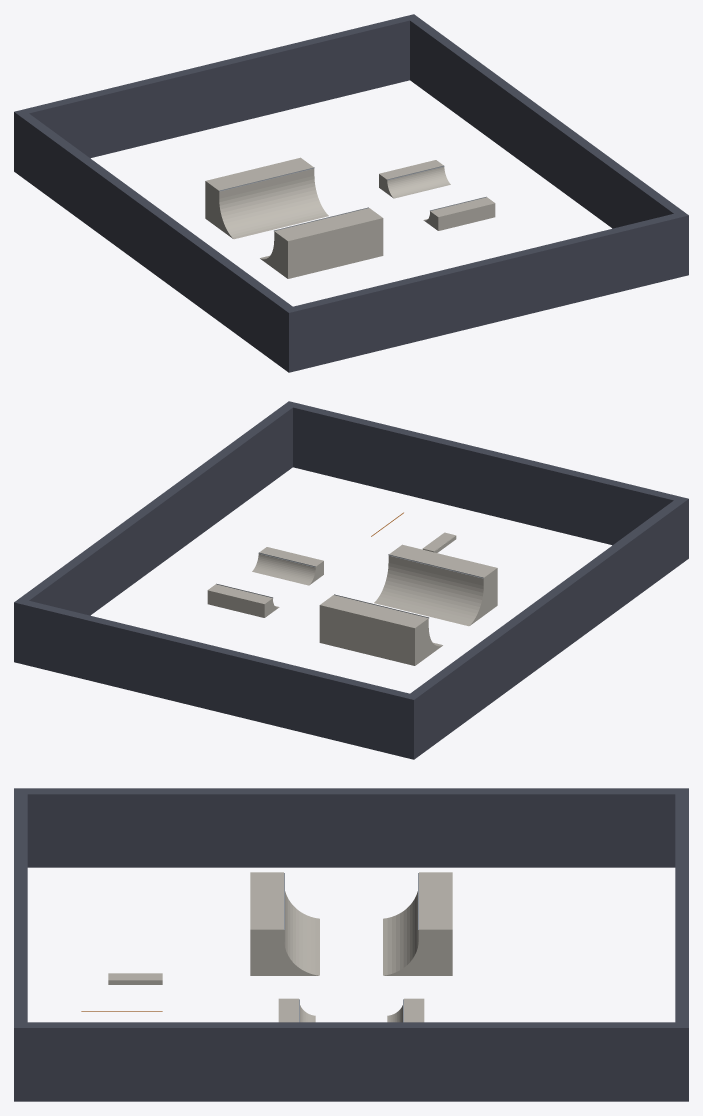
The model's file is spot_fryshuset.glb.
3 renders of one model, top to bottom at view 1: azimuth 30°, elevation 25°; view 2: azimuth 150°, elevation 25°; view 3: azimuth 270°, elevation 25°, orthographic. The views are drawn at different scales.
Visible parts, largest first — view 1: spot_fryshuset; view 2: spot_fryshuset; view 3: spot_fryshuset.
Part boxes in pixels (x1=…): spot_fryshuset: x1=14, y1=14, x2=688, y2=372; spot_fryshuset: x1=14, y1=401, x2=688, y2=759; spot_fryshuset: x1=14, y1=788, x2=688, y2=1101.
Size of the model in its own units: 42 by 6 by 50.
1 material, 1 textured.
